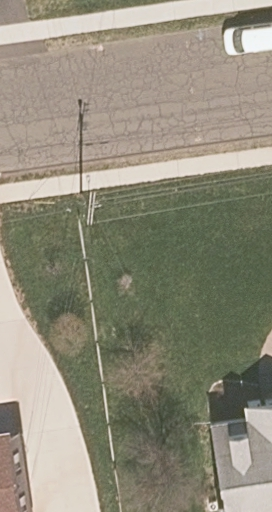DT: (78, 188, 102, 227)
